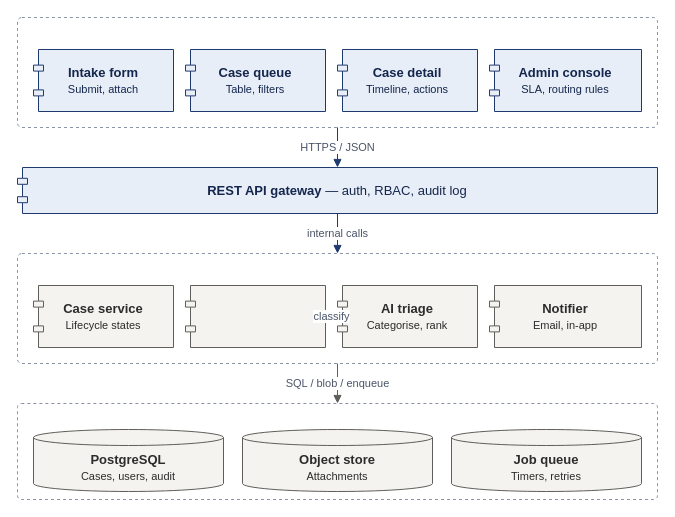
Some shapes in this 675 by 517 pixel diagram are drawn without their labels. The shapes that lost their labels are listed below. From the top down, each one's box as (x1, y1, x2, y2) in pixels, then its label:
(16, 16, 658, 128): Web client — React, design tokens, Lucide
(184, 284, 326, 348): Escalation engine SLA timers
(16, 252, 658, 364): Application services
(16, 402, 658, 500): Data layer
